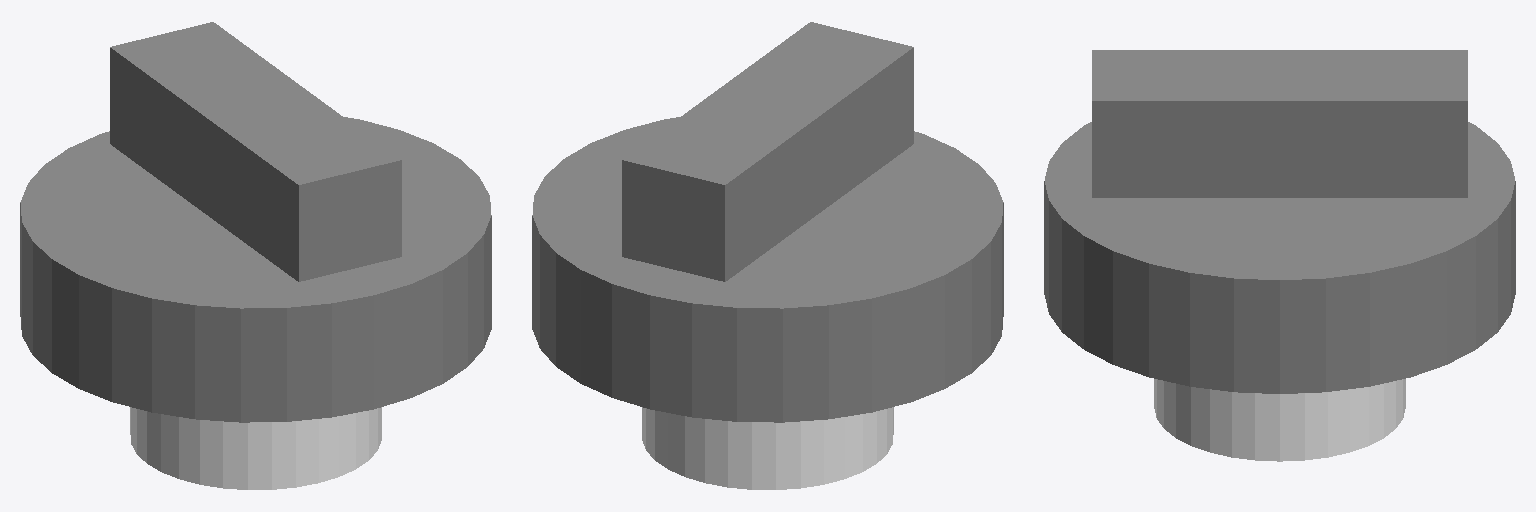
URDF robot description (fuel_cap_inspection):
<?xml version="1.0"?>
<!-- Simplified inspection model of a threaded fuel filler cap.
     Dimensions are provisional and are not a manufacturing model. Units: m. -->
<robot name="fuel_cap_inspection">

  <!-- Reference frame only, not an additional physical cylinder.
       The single white lower section is defined in cap_body. -->
  <link name="filler_neck"/>

  <!-- The cap rotates about the vertical z axis. Real helical thread is intentionally omitted. -->
  <joint name="cap_twist" type="revolute">
    <parent link="filler_neck"/><child link="cap_body"/>
    <origin xyz="0 0 0.030" rpy="0 0 0"/>
    <axis xyz="0 0 1"/>
    <limit lower="-6.283" upper="6.283" effort="20" velocity="2"/>
    <dynamics damping="0.15" friction="0.3"/>
  </joint>

  <link name="cap_body">
    <!-- middle gray cylinder: diameter 75 mm, height 20 mm -->
    <visual name="cap_middle"><origin xyz="0 0 0.010"/><geometry><cylinder radius="0.0375" length="0.020"/></geometry><material name="cap_middle_gray"><color rgba="0.6 0.6 0.6 1"/></material></visual>
    <collision><origin xyz="0 0 0.010"/><geometry><cylinder radius="0.0375" length="0.020"/></geometry></collision>
    <!-- lower white threaded cylinder: diameter 40 mm per user specification; height 20 mm provisional -->
    <visual name="cap_lower"><origin xyz="0 0 -0.010"/><geometry><cylinder radius="0.020" length="0.020"/></geometry><material name="cap_lower_white"><color rgba="1 1 1 1"/></material></visual>
    <collision><origin xyz="0 0 -0.010"/><geometry><cylinder radius="0.020" length="0.020"/></geometry></collision>
    <!-- top gray grip bar, approximated by a rounded rectangular block -->
    <visual name="cap_grip"><origin xyz="0 0 0.030"/><geometry><box size="0.019 0.060 0.017"/></geometry><material name="cap_grip_gray"><color rgba="0.6 0.6 0.6 1"/></material></visual>
    <collision><origin xyz="0 0 0.030"/><geometry><box size="0.019 0.060 0.017"/></geometry></collision>
  </link>
  <!-- Reference frames derived from the current provisional geometry (meters).
       Reference axes: +Z outward, +X along the grip's 60 mm side.
       Fixed children follow cap_twist together with the cap. -->
  <link name="cap_grip_center"/>
  <joint name="cap_grip_center_joint" type="fixed">
    <parent link="cap_body"/><child link="cap_grip_center"/>
    <origin xyz="0 0 0.030" rpy="0 0 1.5707963267948966"/>
  </joint>

  <link name="cap_grip_top_center"/>
  <joint name="cap_grip_top_center_joint" type="fixed">
    <parent link="cap_body"/><child link="cap_grip_top_center"/>
    <!-- Grip center Z + half of its 17 mm height. -->
    <origin xyz="0 0 0.0385" rpy="0 0 1.5707963267948966"/>
  </joint>

  <link name="cap_bottom_center"/>
  <joint name="cap_bottom_center_joint" type="fixed">
    <parent link="cap_body"/><child link="cap_bottom_center"/>
    <!-- White cylinder center Z - half of its 20 mm height. -->
    <origin xyz="0 0 -0.020" rpy="0 0 1.5707963267948966"/>
  </joint>
</robot>

--- Facts derived from the render (not from the file) ---
3 views of the same robot in one strip: view 1: azimuth 30°, elevation 25°; view 2: azimuth 150°, elevation 25°; view 3: azimuth 270°, elevation 25° (orthographic).
Model fuel_cap_inspection with 5 links and 4 joints (1 revolute, 3 fixed), rooted at filler_neck, posed all joints at 0.
Links seen in each view (by area): view 1: cap_body; view 2: cap_body; view 3: cap_body.
Link boxes in pixels (box(x1,y1,x2,y2)): cap_body: box(20, 22, 491, 489); cap_body: box(532, 22, 1003, 489); cap_body: box(1044, 50, 1515, 461).
Size in the robot's own frame: 0.075 by 0.075 by 0.0585 metres.
Geometry: primitives only (box / cylinder / sphere), no mesh files.
